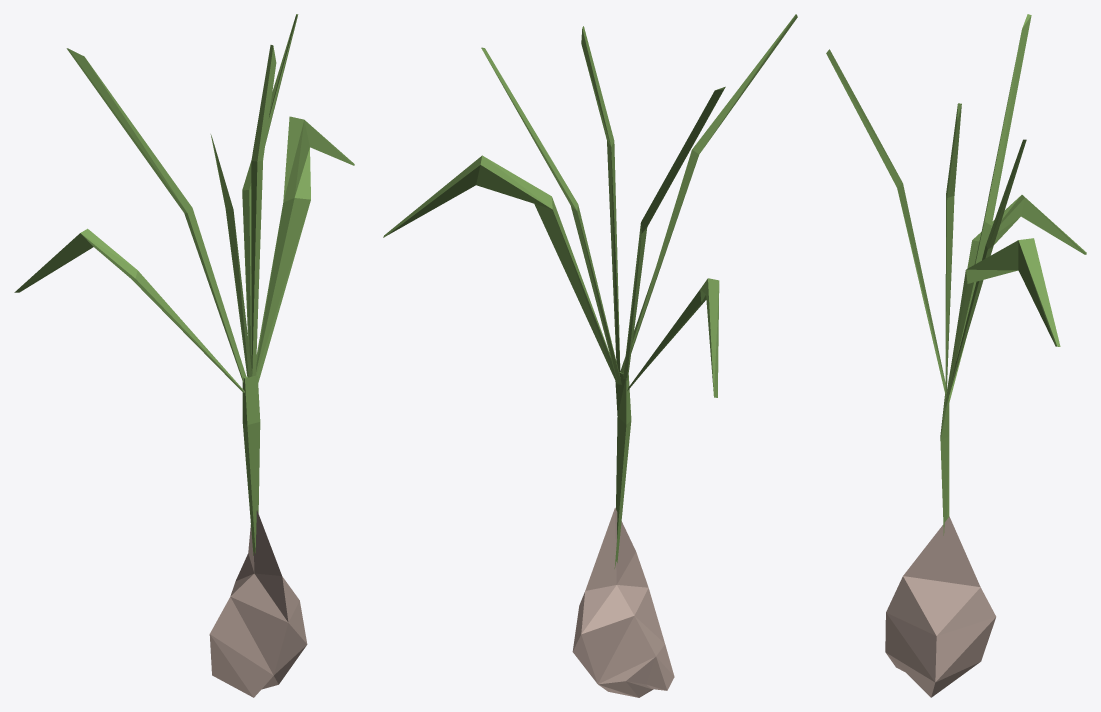
File: Garlic_4.fbx
3 views of the same model, side by side, from view 1: azimuth 30°, elevation 25°; view 2: azimuth 150°, elevation 25°; view 3: azimuth 270°, elevation 25° (orthographic). The views are drawn at different scales.
Parts seen in each view (by area): view 1: Garlic_4; view 2: Garlic_4; view 3: Garlic_4.
Boxes of the visible parts, x1=… form: Garlic_4: x1=14, y1=14, x2=354, y2=697; Garlic_4: x1=383, y1=14, x2=797, y2=697; Garlic_4: x1=826, y1=14, x2=1086, y2=697.
Size of the model in its own units: 123 by 231 by 89.66.
